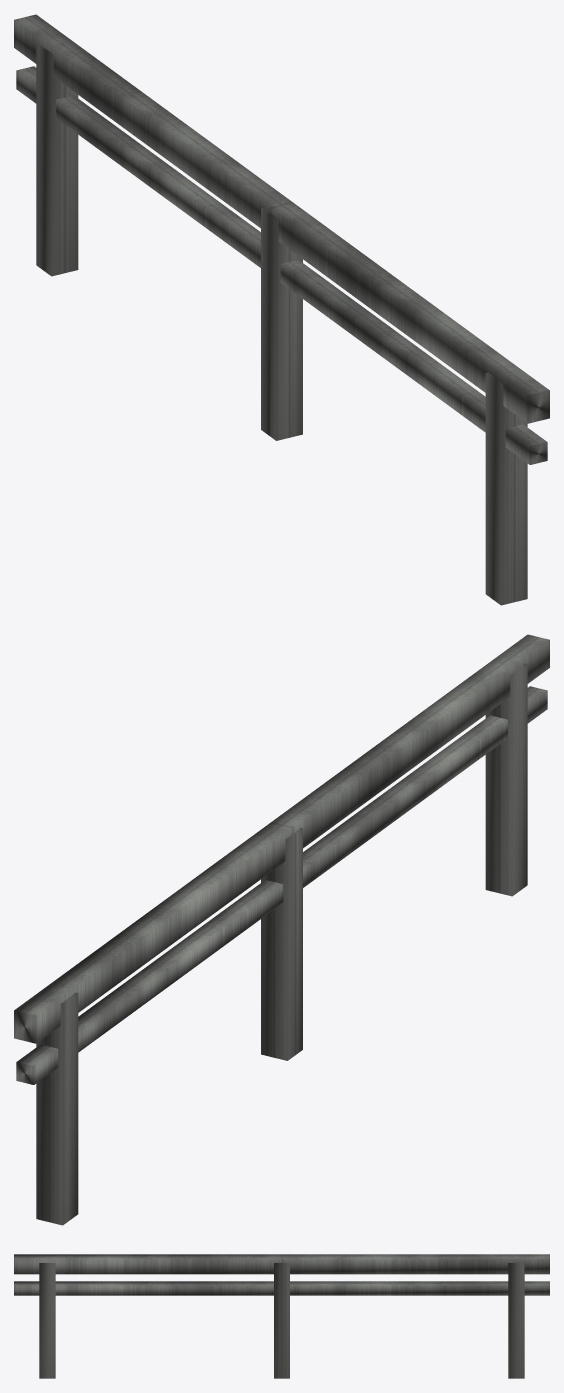
Rendered from HILL_Guardrail_4m.obj.
3 renders of one model, top to bottom at view 1: azimuth 30°, elevation 25°; view 2: azimuth 150°, elevation 25°; view 3: azimuth 270°, elevation 25°, orthographic. The views are drawn at different scales.
Parts seen in each view (by area): view 1: HILL_Guardrail_4m; view 2: HILL_Guardrail_4m; view 3: HILL_Guardrail_4m.
Boxes of the visible parts, box(x1,y1,x2,y2) form: HILL_Guardrail_4m: box(14, 14, 549, 605); HILL_Guardrail_4m: box(14, 634, 549, 1225); HILL_Guardrail_4m: box(14, 1254, 549, 1378).
Size of the model in its own units: 0.12 by 0.975 by 4.
Materials: 1 (1 with a texture image).
